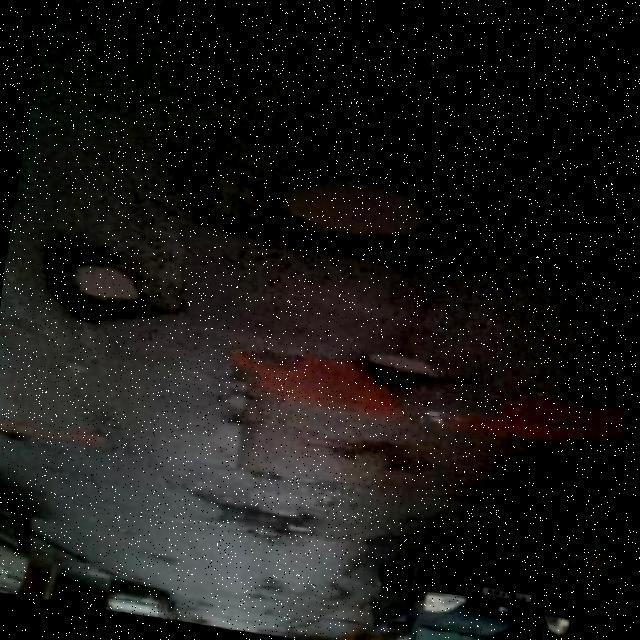Pothole: (186, 135, 482, 273), (41, 237, 181, 323), (361, 351, 439, 394)
